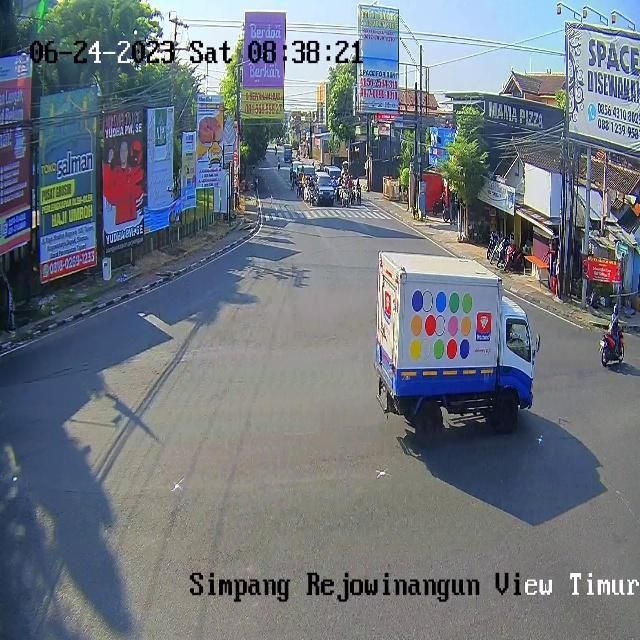bus: (600, 324, 626, 367), (308, 186, 314, 206), (343, 189, 349, 207), (301, 182, 307, 200), (355, 186, 361, 203)
motorcycle: (374, 250, 533, 436), (315, 172, 334, 206), (300, 165, 316, 193), (324, 166, 342, 182)
